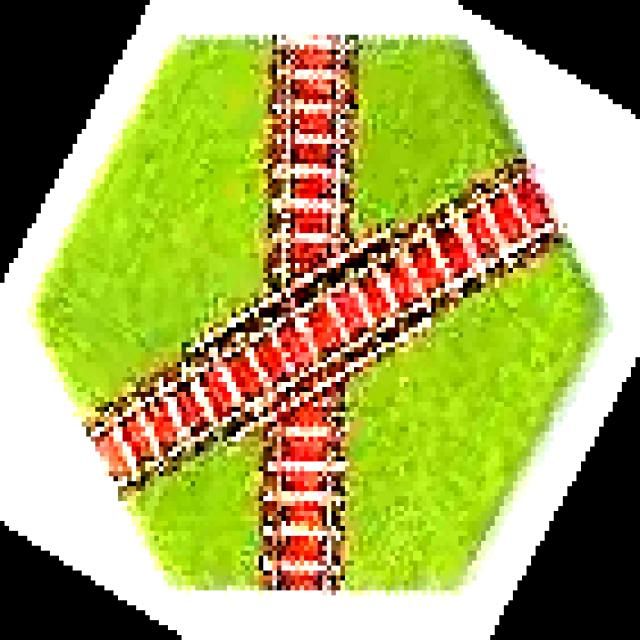9_1: (36, 37, 604, 598)
